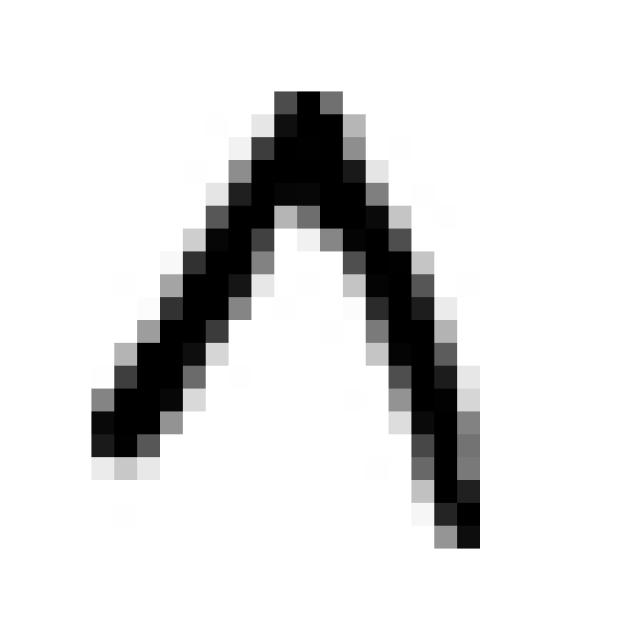8 -eight-: (69, 66, 496, 569)
